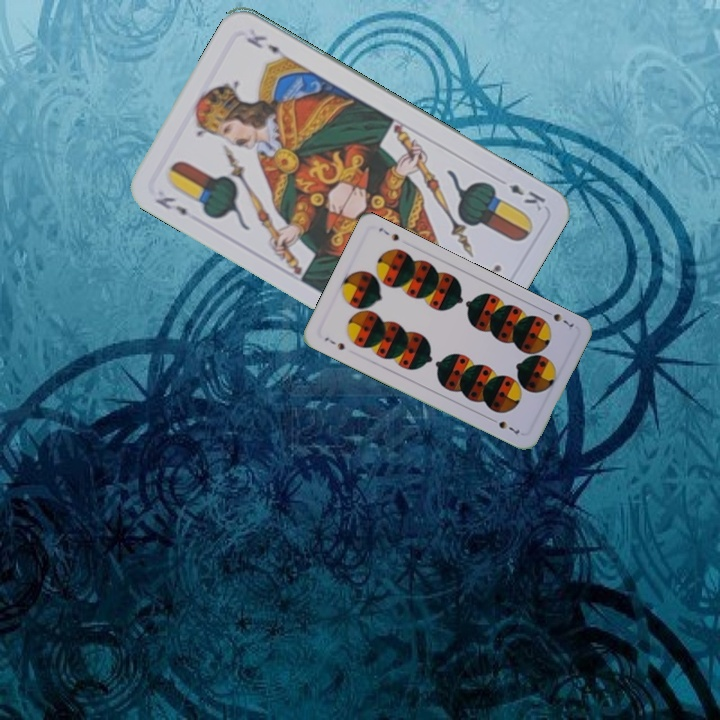EK: (493, 174, 548, 214), (151, 192, 200, 225)
S7: (540, 306, 577, 330), (320, 333, 347, 353)
